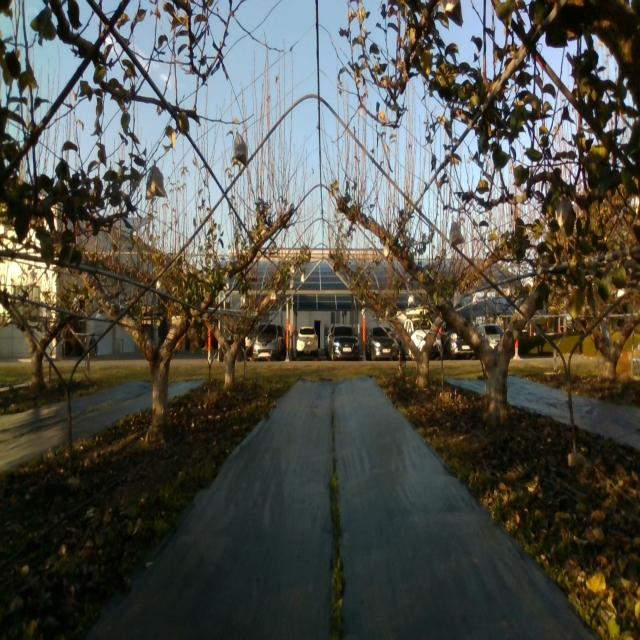pearbags: (557, 196, 576, 239), (146, 166, 167, 199), (233, 133, 249, 169), (440, 0, 462, 26), (450, 222, 465, 248)
